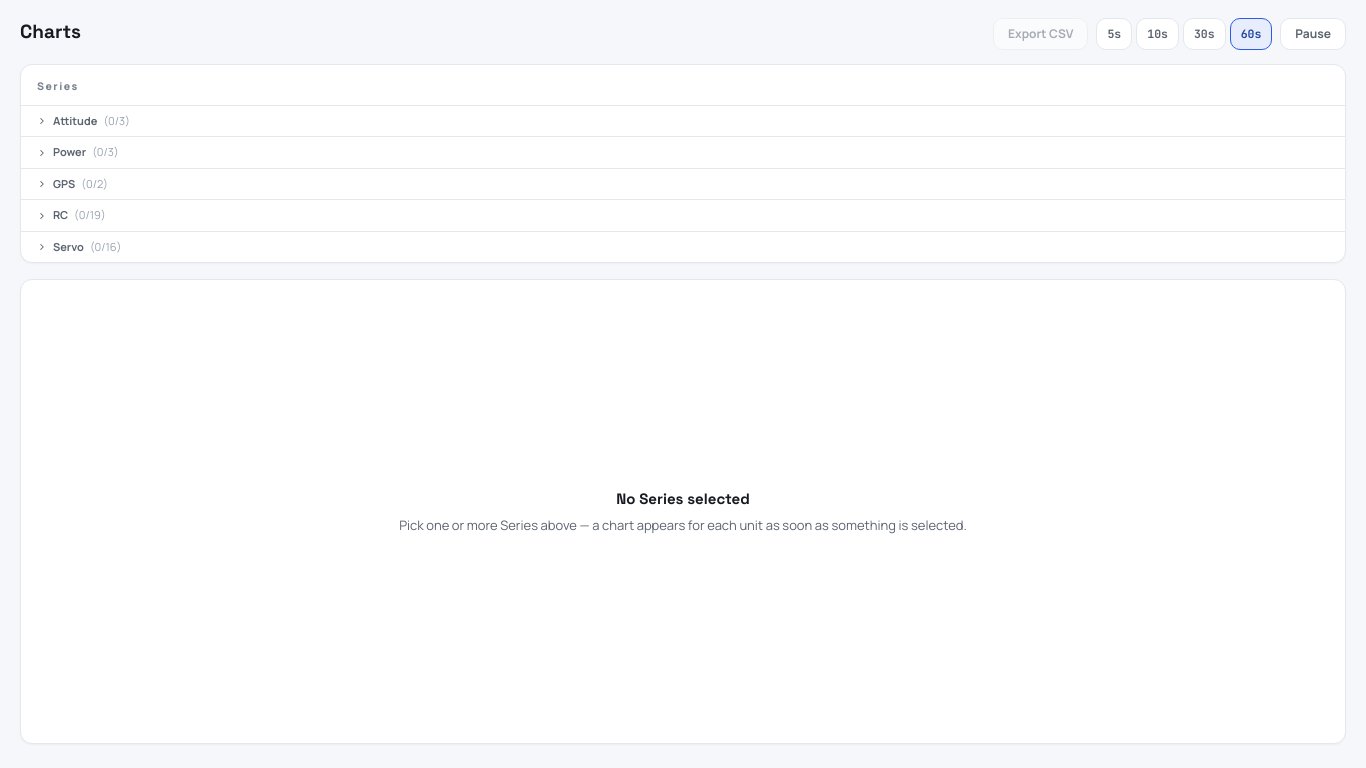
Test: ChartsPage › nothing selected: an empty-state hint with the picker still available, never a blank page
Check: the text "No Series selected" is shown, box [616, 488, 750, 510]
Click the button "Attitude (0/3)" at point(75, 120), box [21, 106, 1345, 136]
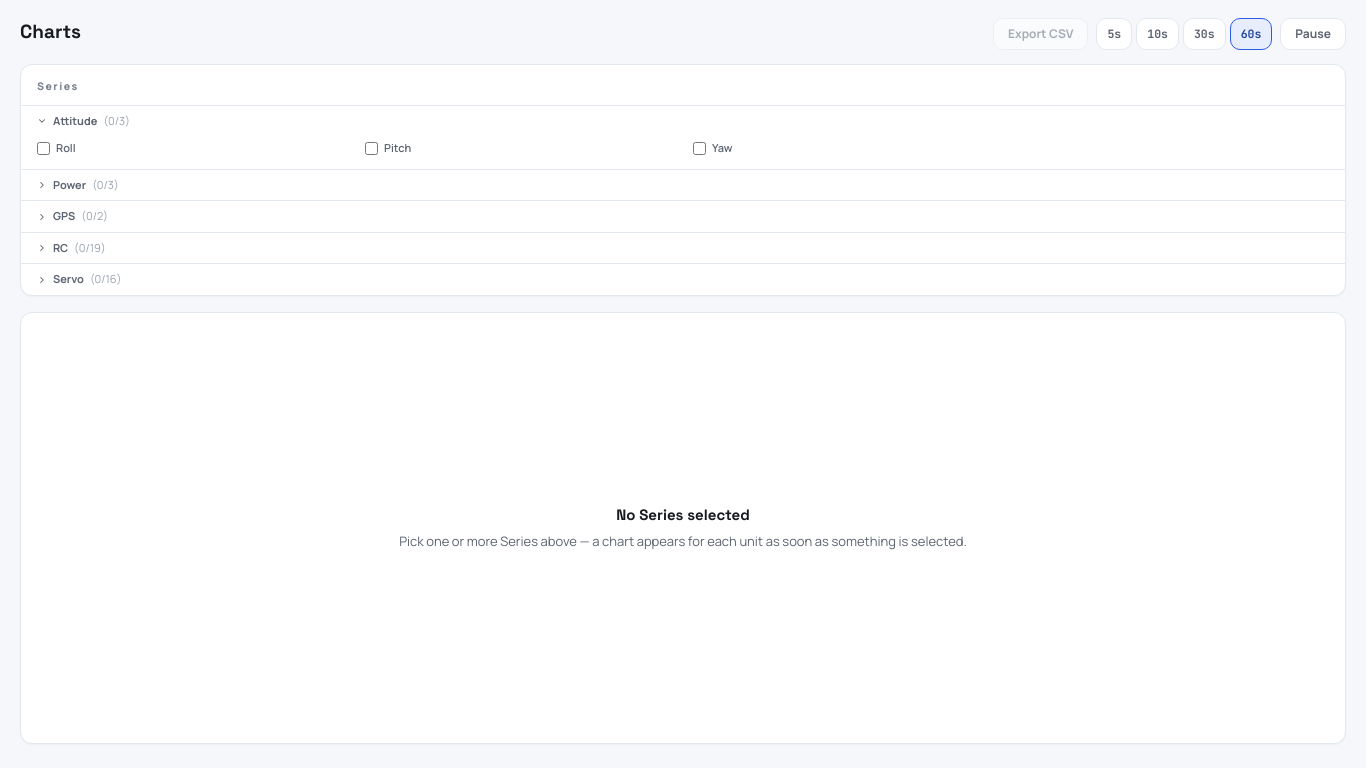
Check: the checkbox labelled "Roll" is enabled, box [37, 142, 50, 155]
